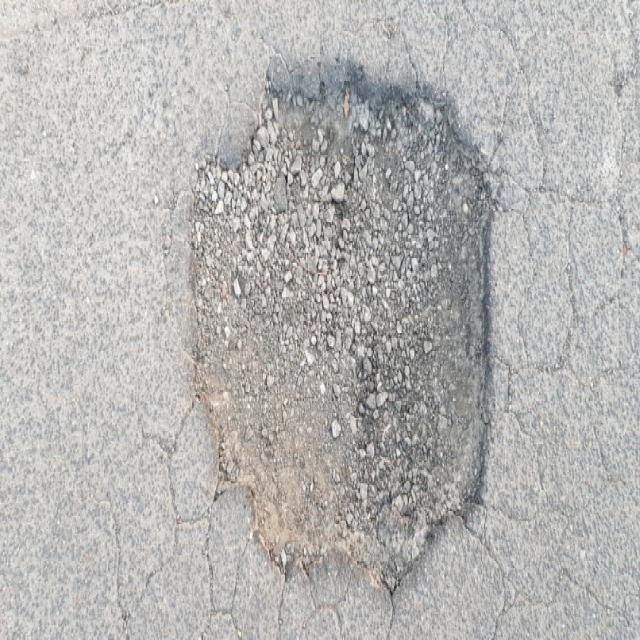Pothole: (185, 45, 505, 599)
